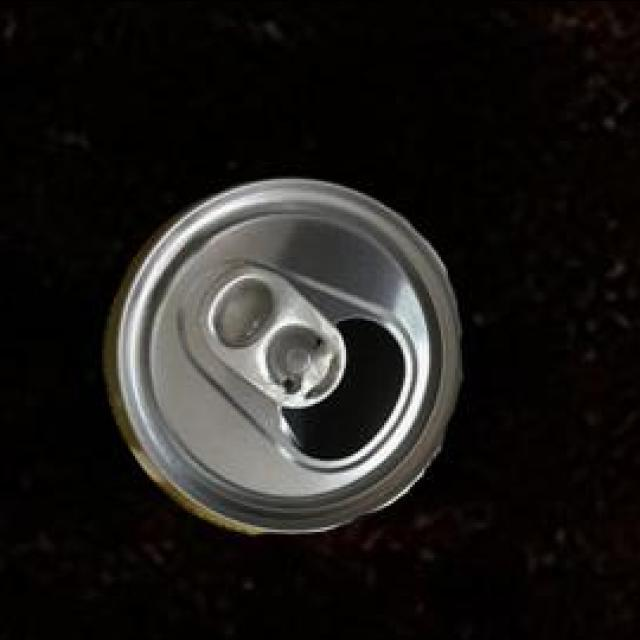logam: (108, 174, 466, 530)
